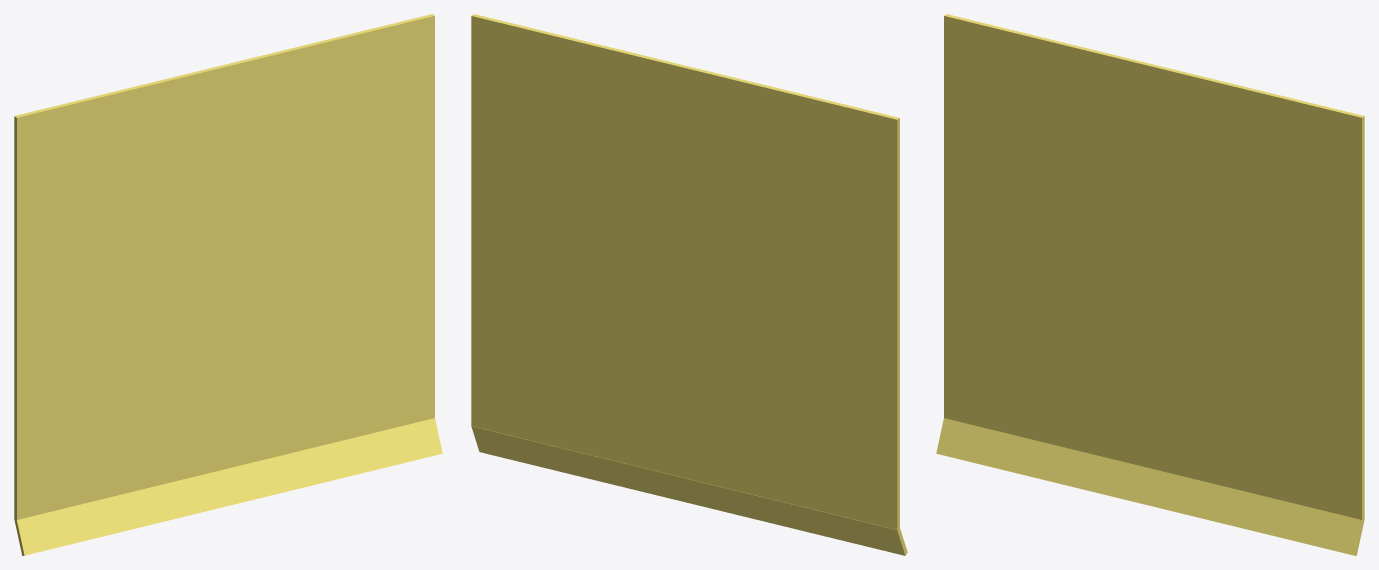
The model's file is sticky_note.glb.
The picture shows the model from 3 angles, left to right: view 1: azimuth 30°, elevation 25°; view 2: azimuth 150°, elevation 25°; view 3: azimuth 330°, elevation 25°; orthographic projection.
Visible parts, largest first — view 1: SM_sticky_note; view 2: SM_sticky_note; view 3: SM_sticky_note.
Part boxes in pixels (left/top/right/bottom): SM_sticky_note: left=14, top=14, right=442, bottom=555; SM_sticky_note: left=471, top=14, right=907, bottom=555; SM_sticky_note: left=936, top=14, right=1364, bottom=555.
Size of the model in its own units: 0.076 by 0.0754 by 0.00326.
